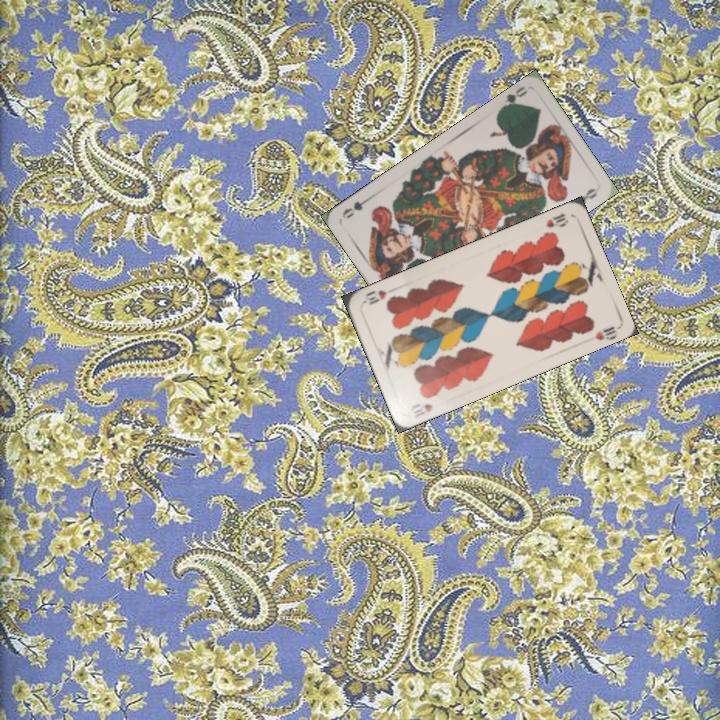GO: (495, 82, 530, 113)
H10: (542, 209, 571, 231), (407, 399, 435, 415)
